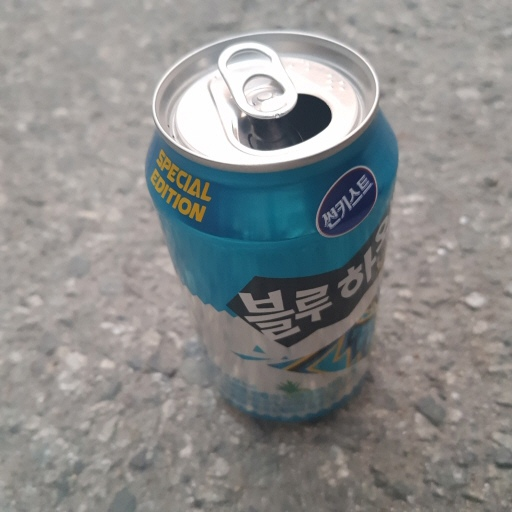Metal_0: (133, 28, 399, 423)
